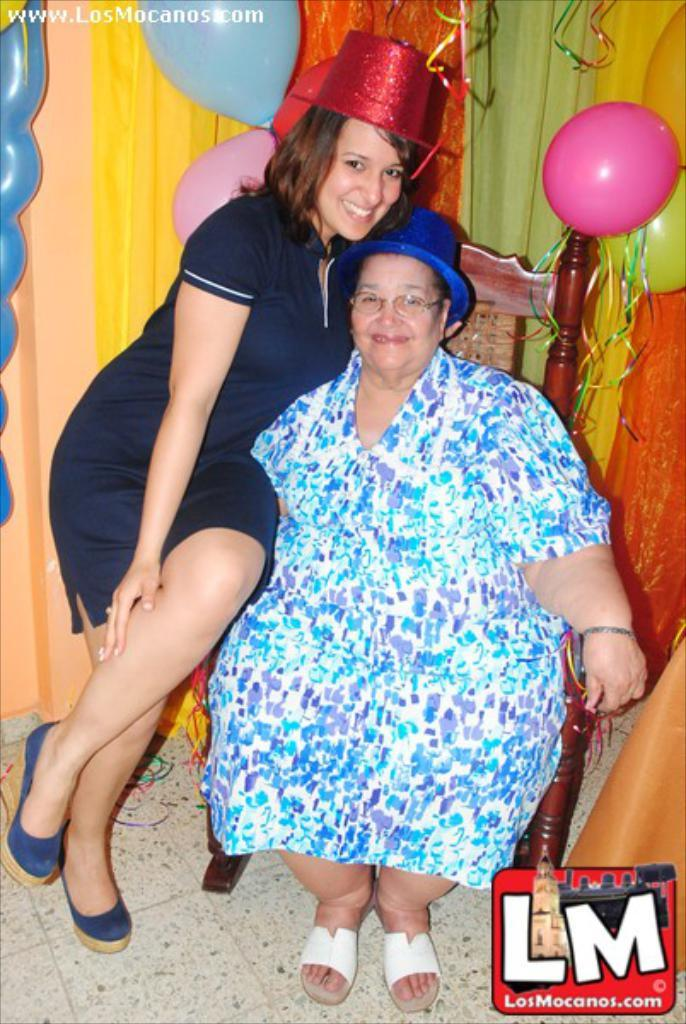Hat: (290, 25, 460, 162), (332, 205, 476, 331)
